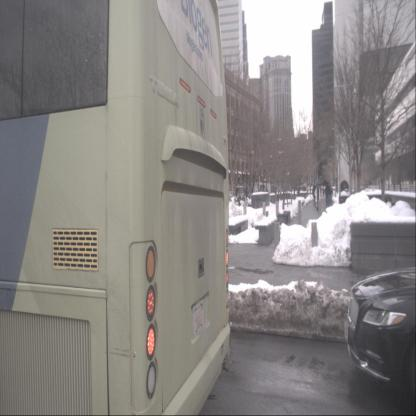human-pedestrian-adult: (324, 183, 330, 207), (312, 182, 317, 208), (328, 184, 332, 206)
vehicle-bus-rigid: (0, 0, 231, 416)
vehicle-car: (344, 260, 415, 406)
